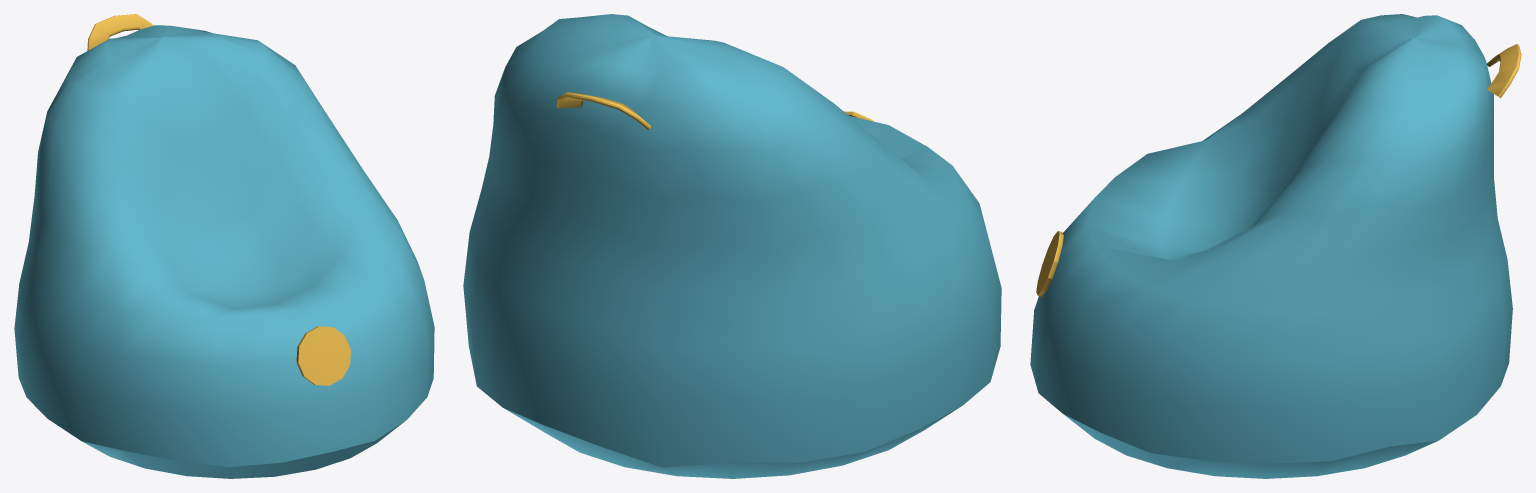
File: beanBagKids.glb
3 renders of one model, left to right at view 1: azimuth 30°, elevation 25°; view 2: azimuth 150°, elevation 25°; view 3: azimuth 270°, elevation 25°, orthographic. The views are drawn at different scales.
Visible parts, largest first — view 1: bag; view 2: bag; view 3: bag.
Part boxes in pixels (x1,y1,x2,y2): bag: (14,14,434,478); bag: (463,14,1001,478); bag: (1030,14,1521,478).
Bounding box in the file's own units: 0.62 × 0.5283 × 0.6465.
